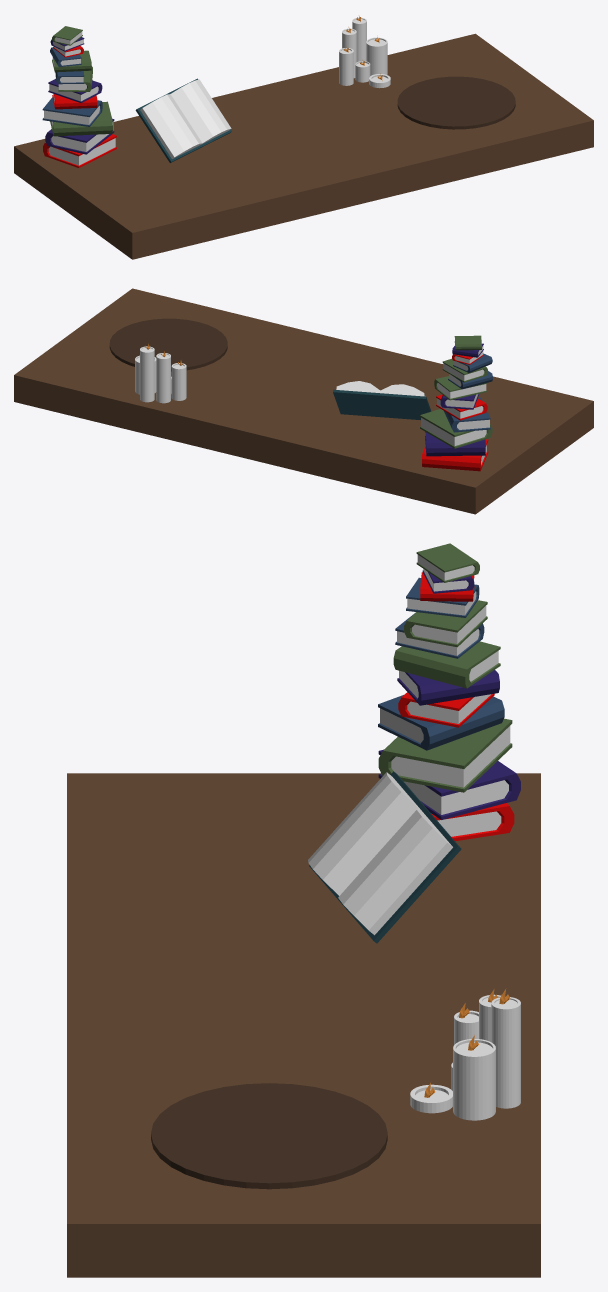
Rendered from alchemists_table.gltf.
The picture shows the model from 3 angles, top to bottom: view 1: azimuth 30°, elevation 25°; view 2: azimuth 150°, elevation 25°; view 3: azimuth 270°, elevation 25°; orthographic projection. The views are drawn at different scales.
Visible parts, largest first — view 1: Cube, Cube.013, Cylinder.012, Cube.014, Cylinder.002, Cylinder, Cylinder.005, Cylinder.004; view 2: Cube, Cube.013, Cylinder.012, Cube.014, Cylinder.005, Cylinder.004, Cylinder; view 3: Cube, Cube.013, Cylinder.012, Cube.014, Cylinder.002, Cylinder.005, Cylinder.003.
Boxes of the visible parts, bbox=[...] form: Cube: bbox=[14, 33, 593, 259]; Cube.013: bbox=[42, 26, 116, 167]; Cylinder.012: bbox=[397, 76, 515, 129]; Cube.014: bbox=[135, 78, 231, 162]; Cylinder.002: bbox=[366, 37, 387, 75]; Cylinder: bbox=[339, 48, 353, 85]; Cylinder.005: bbox=[352, 17, 366, 61]; Cylinder.004: bbox=[342, 28, 356, 78]; Cube: bbox=[14, 288, 593, 514]; Cube.013: bbox=[420, 335, 492, 471]; Cylinder.012: bbox=[109, 318, 227, 371]; Cube.014: bbox=[333, 381, 431, 420]; Cylinder.005: bbox=[140, 346, 154, 402]; Cylinder.004: bbox=[156, 353, 170, 403]; Cylinder: bbox=[171, 363, 186, 400]; Cube: bbox=[67, 773, 540, 1277]; Cube.013: bbox=[378, 543, 520, 841]; Cylinder.012: bbox=[151, 1083, 387, 1189]; Cube.014: bbox=[308, 771, 461, 943]; Cylinder.002: bbox=[453, 1039, 495, 1120]; Cylinder.005: bbox=[491, 997, 520, 1108]; Cylinder.003: bbox=[410, 1084, 452, 1113].
Size of the model in its own units: 1.8 by 0.5586 by 0.8.
